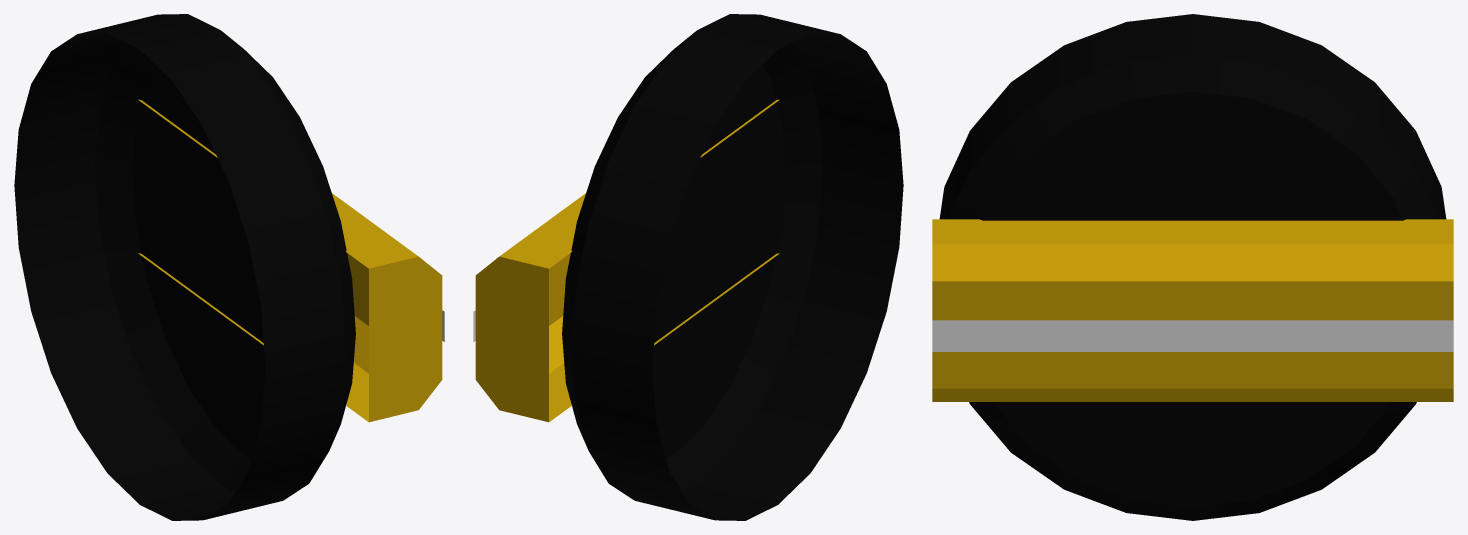
Rendered from EL_Panel_Switch_I.fbx.
The picture shows the model from 3 angles, left to right: view 1: azimuth 30°, elevation 25°; view 2: azimuth 150°, elevation 25°; view 3: azimuth 270°, elevation 25°; orthographic projection. The views are drawn at different scales.
Visible parts, largest first — view 1: Electrical_Panel_Switch_I.002, Electrical_Panel_Switch_I.003; view 2: Electrical_Panel_Switch_I.002, Electrical_Panel_Switch_I.003; view 3: Electrical_Panel_Switch_I.002, Electrical_Panel_Switch_I.003.
Boxes of the visible parts, bbox=[...] form: Electrical_Panel_Switch_I.002: bbox=[14, 14, 355, 520]; Electrical_Panel_Switch_I.003: bbox=[138, 99, 444, 422]; Electrical_Panel_Switch_I.002: bbox=[562, 14, 903, 520]; Electrical_Panel_Switch_I.003: bbox=[473, 99, 779, 422]; Electrical_Panel_Switch_I.002: bbox=[939, 14, 1446, 520]; Electrical_Panel_Switch_I.003: bbox=[932, 219, 1453, 401].
Size of the model in its own units: 6.04 by 14.81 by 15.
